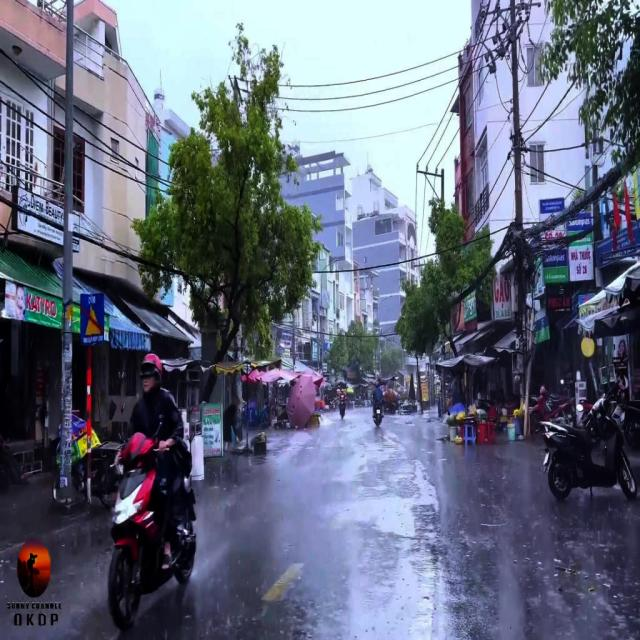khac: (81, 293, 104, 345)
